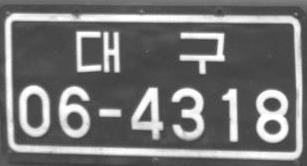0: (17, 83, 50, 138)
1: (217, 87, 249, 142)
3: (170, 87, 205, 142)
4: (129, 87, 164, 140)
6: (58, 85, 91, 137)
8: (254, 88, 289, 143)
대구_D: (75, 30, 226, 74)
